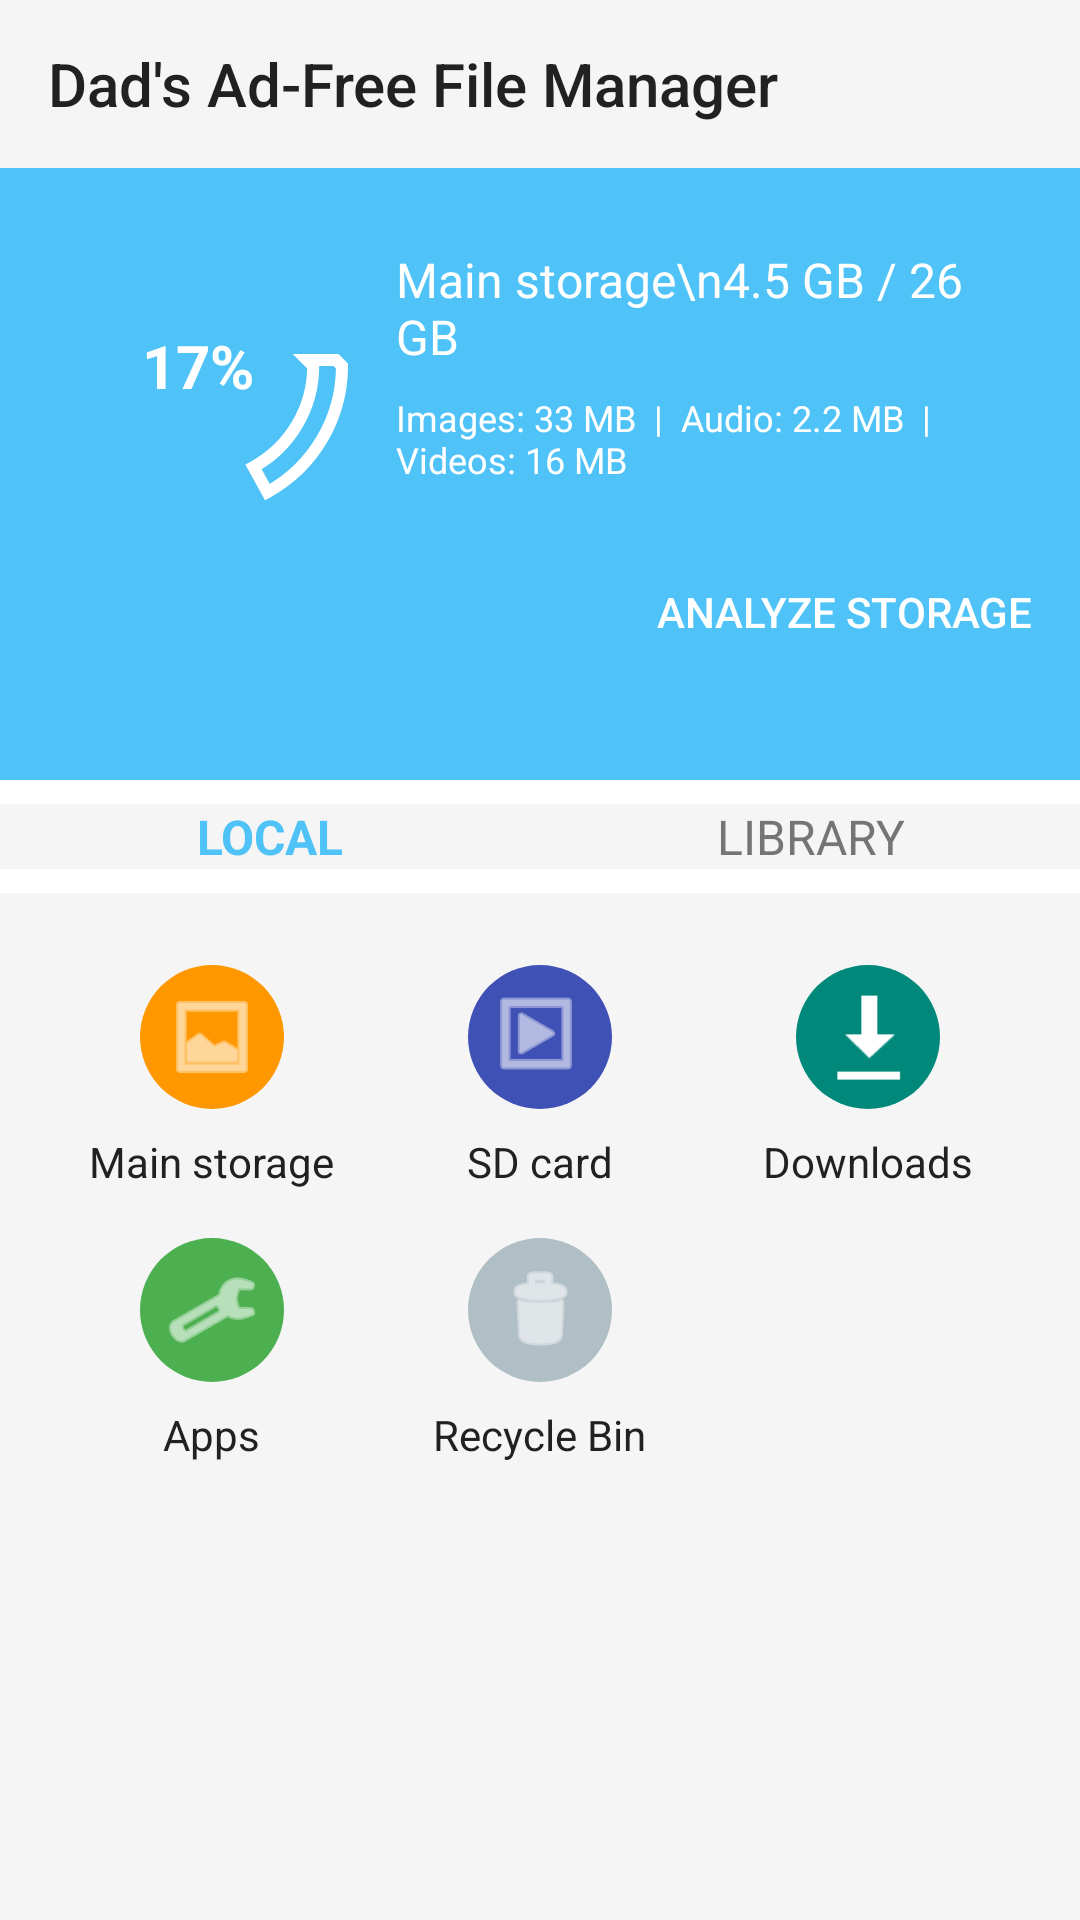

Where icons sit on this 1080w x 1920h app screen, as (x1, y1, x2, y2):
delete: (468, 1238, 612, 1382)
gallery: (140, 965, 284, 1109)
preferences: (140, 1238, 284, 1382)
slideshow: (468, 965, 612, 1109)
